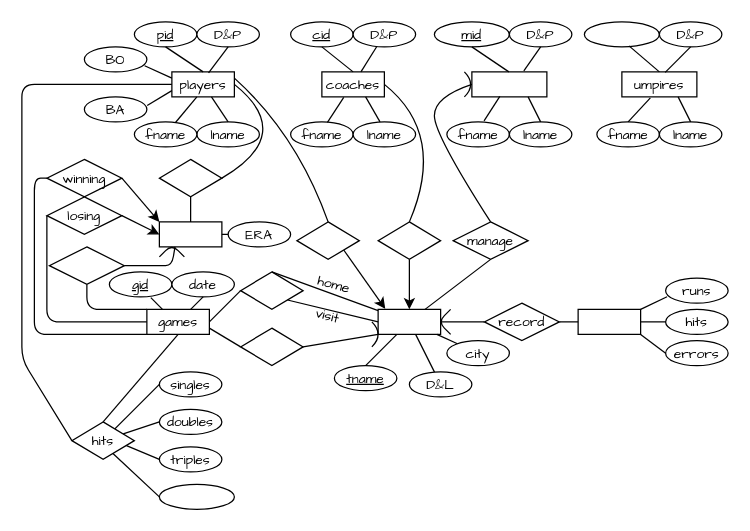
Some shapes in this 750 by 531 pixel diagram are drawn without their labels. Each missing label, with the centre of its shape:
"coach" belongs at [409,240].
"have" belongs at [327,240].
"home_run" belongs at [196,496].
"ISA" belongs at [190,177].
"managers" belongs at [509,84].
"pitchers" belongs at [190,234].
"play" belongs at [271,290].
"save" belongs at [86,265].
"score" belongs at [609,321].
"teams" belongs at [409,321].
"uid" belongs at [621,34].
"win" belongs at [271,346].
